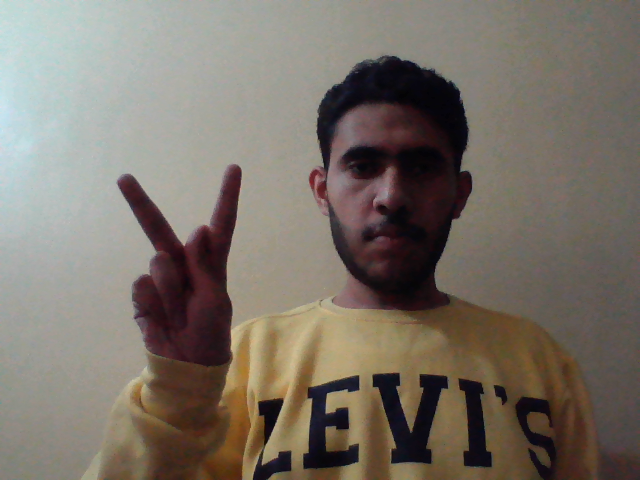K: (111, 163, 250, 378)
